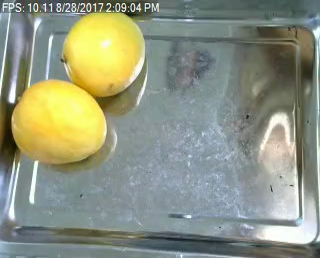Mango: (12, 80, 107, 163), (61, 5, 144, 96)
